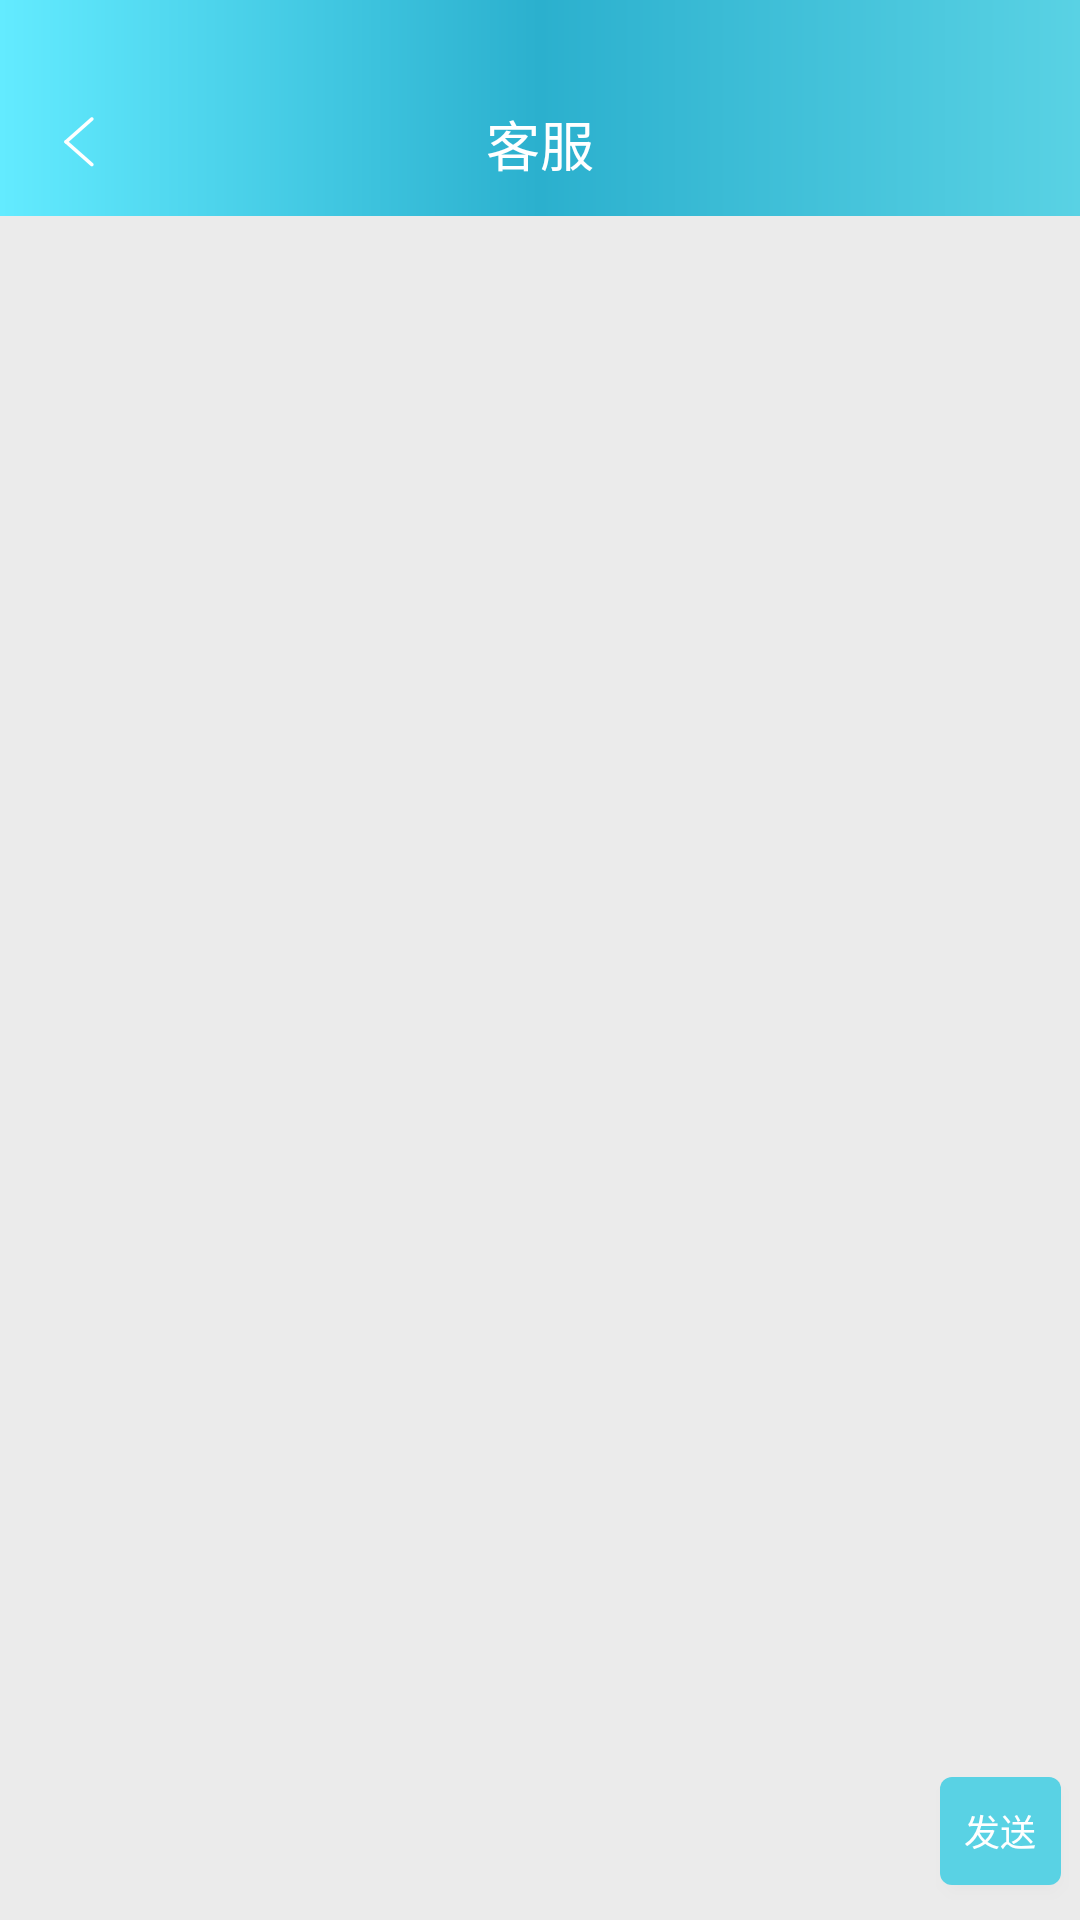

Named icons in this screenshot (1080px x 1920px) and their bounding boxes, {"x1": x1, "y1": y1, "x2": x2, "y2": y2}:
返回: {"x1": 64, "y1": 117, "x2": 94, "y2": 167}
